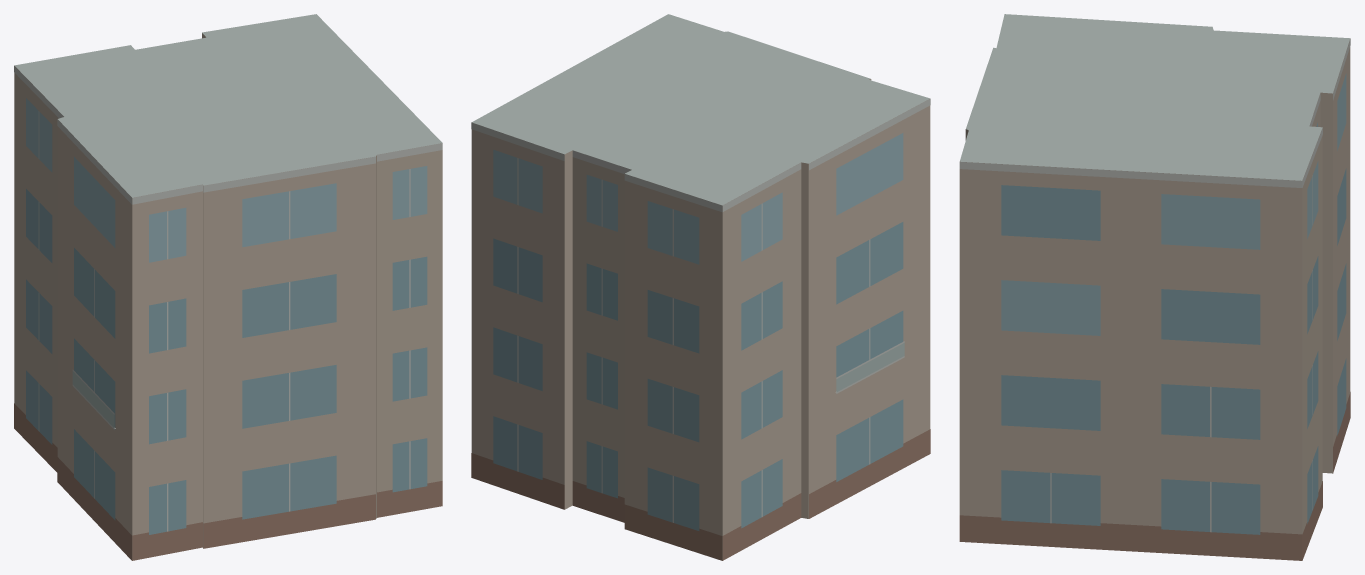
Rendered from survey-upis-32981327.glb.
The picture shows the model from 3 angles, left to right: view 1: azimuth 30°, elevation 25°; view 2: azimuth 150°, elevation 25°; view 3: azimuth 270°, elevation 25°; orthographic projection. The views are drawn at different scales.
Visible parts, largest first — view 1: survey-upis-32981327.tmp; view 2: survey-upis-32981327.tmp; view 3: survey-upis-32981327.tmp.
Part boxes in pixels (x1,y1,x2,y2): survey-upis-32981327.tmp: (14, 14, 442, 560); survey-upis-32981327.tmp: (471, 14, 930, 560); survey-upis-32981327.tmp: (959, 14, 1350, 560).
Bounding box in the file's own units: 11.97 × 12.7 × 11.84.
